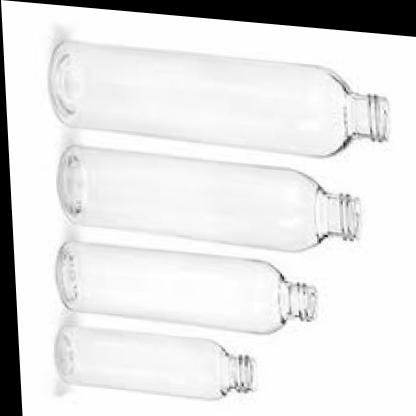Plastic: (38, 24, 401, 160), (39, 147, 390, 254), (32, 233, 345, 338), (39, 326, 306, 416)
